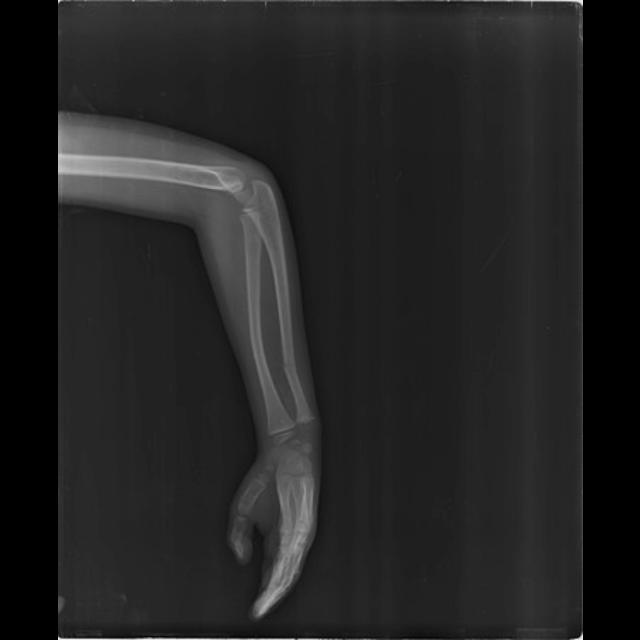Fracture: (278, 357, 297, 375)
